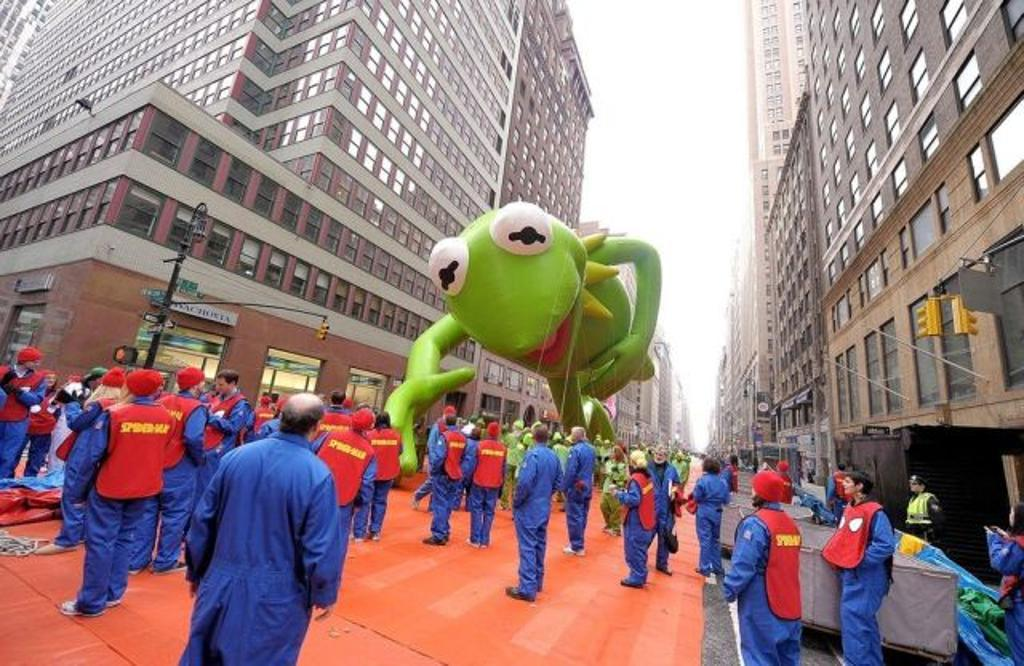face: (844, 475, 860, 497), (216, 376, 232, 395), (26, 354, 41, 373), (96, 375, 109, 395), (194, 376, 205, 395), (753, 483, 764, 501), (1010, 507, 1019, 528), (910, 479, 923, 493), (45, 374, 58, 387), (657, 451, 668, 463), (573, 430, 583, 441), (612, 448, 619, 459), (726, 455, 732, 465)
